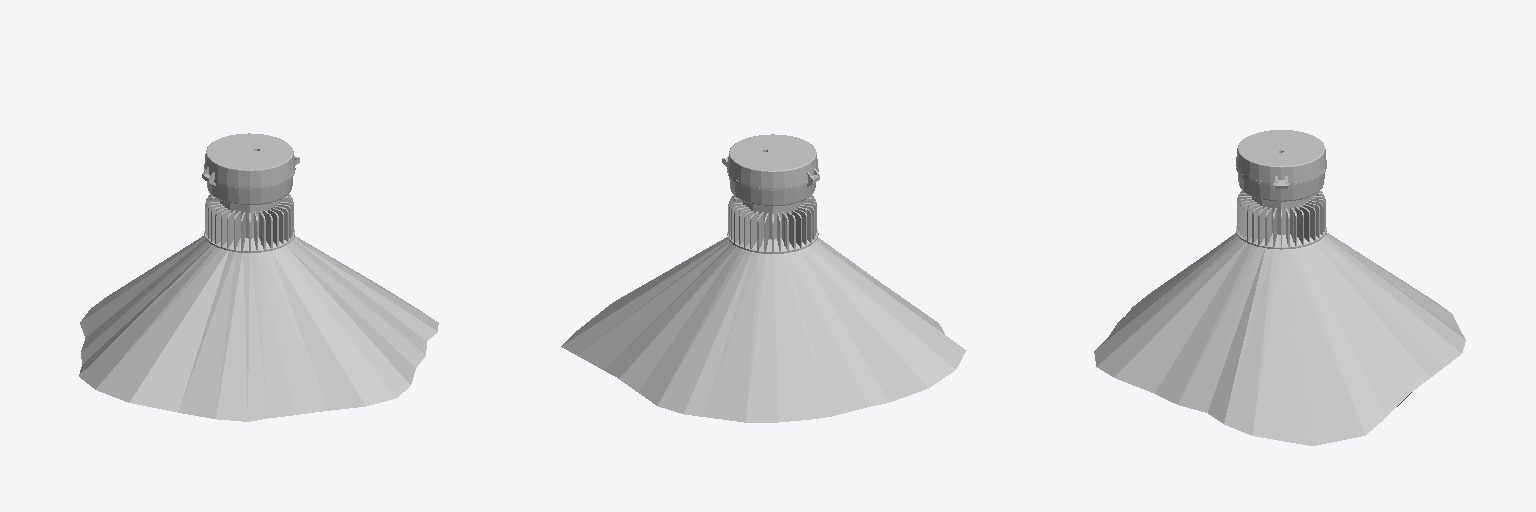
The model's file is sampleYellow.obj.
The picture shows the model from 3 angles: view 1: azimuth 30°, elevation 25°; view 2: azimuth 150°, elevation 25°; view 3: azimuth 270°, elevation 25°; orthographic projection.
Parts seen in each view (by area): view 1: VMV7L2HA_UNV1_; view 2: VMV7L2HA_UNV1_; view 3: VMV7L2HA_UNV1_.
Boxes of the visible parts, x1,y1,x2,y2 form: VMV7L2HA_UNV1_: [79, 133, 438, 421]; VMV7L2HA_UNV1_: [561, 134, 966, 422]; VMV7L2HA_UNV1_: [1094, 130, 1465, 445].
Bounding box in the file's own units: 44.64 × 25.71 × 41.19.